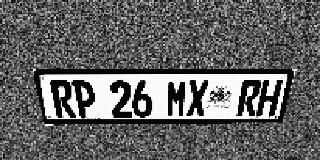2: (110, 80, 132, 117)
6: (131, 80, 152, 117)
H: (256, 80, 283, 116)
M: (166, 80, 188, 117)
P: (72, 81, 97, 118)
R: (49, 81, 77, 118), (236, 80, 262, 116)
X: (186, 80, 209, 117)
